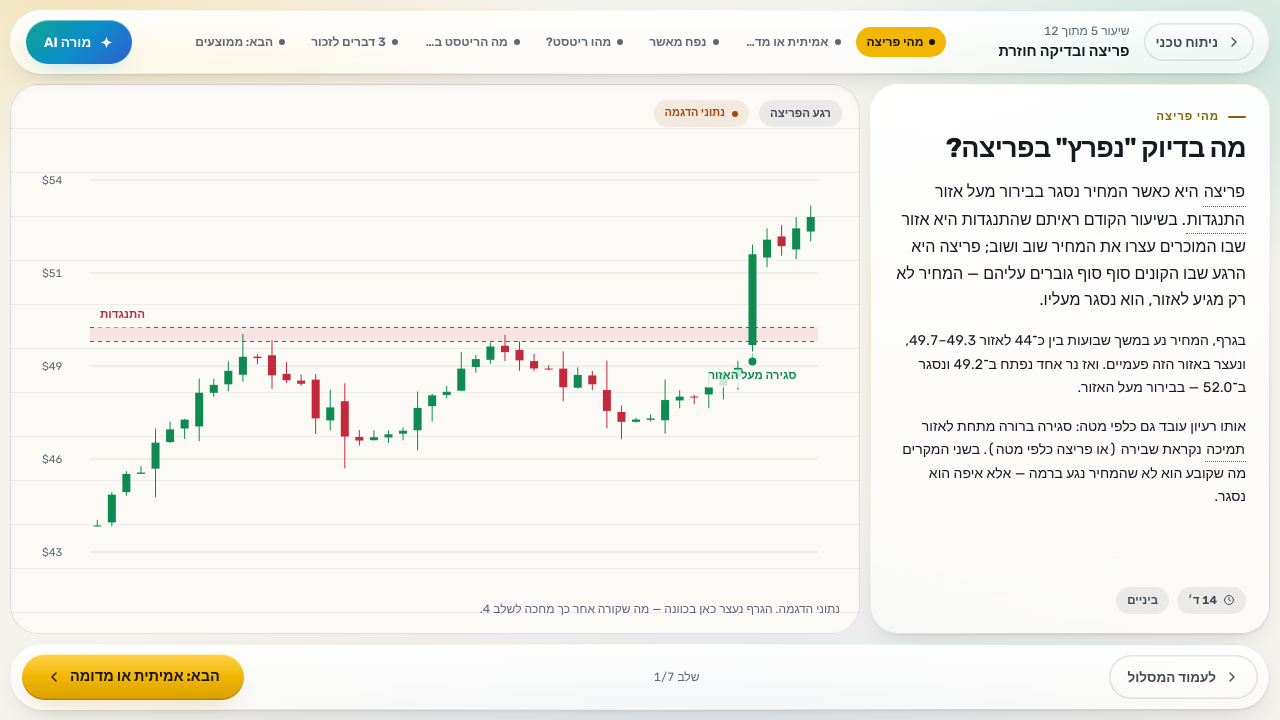
Test: predicting (T5) › is revealed, not marked: any guess moves on, with what actually happened
The image size is (1280, 720).
Click the button "מהו ריטסט?".
click(584, 42)  # box [535,27,634,57]
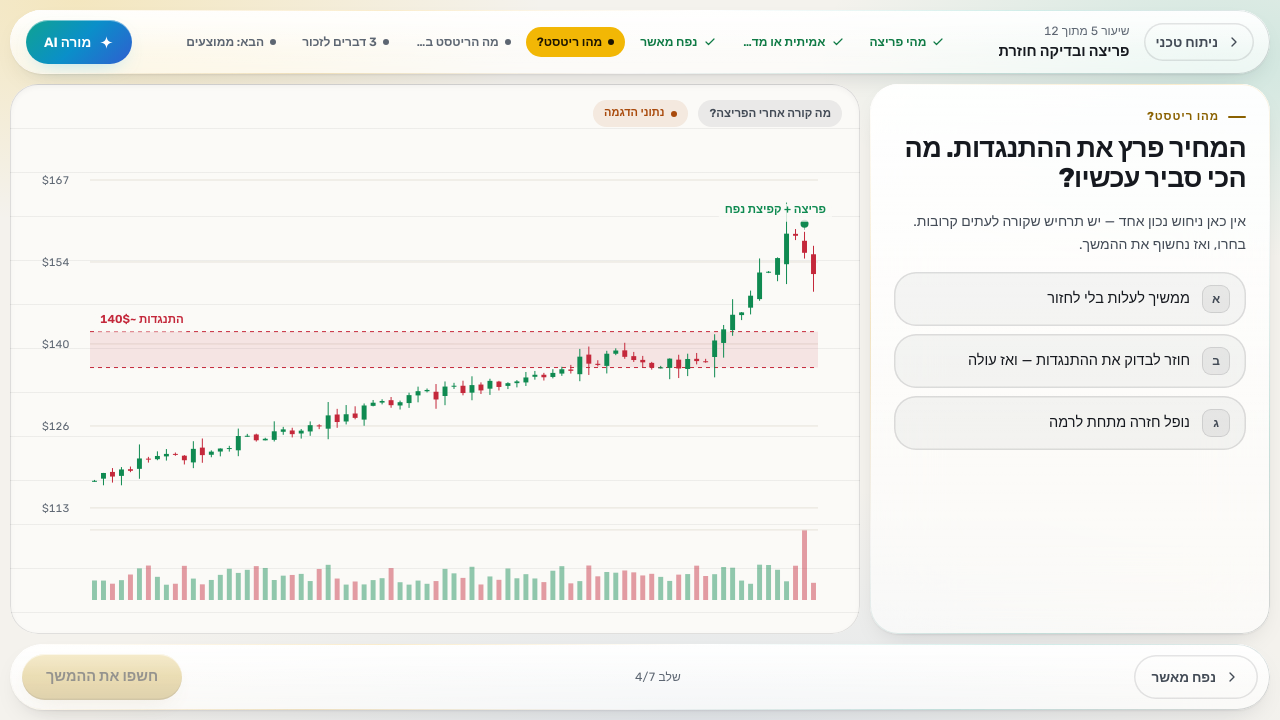
Click the radio button labelled "א ממשיך לעלות בלי לחזור".
click(1070, 299)  # box [894,272,1246,326]
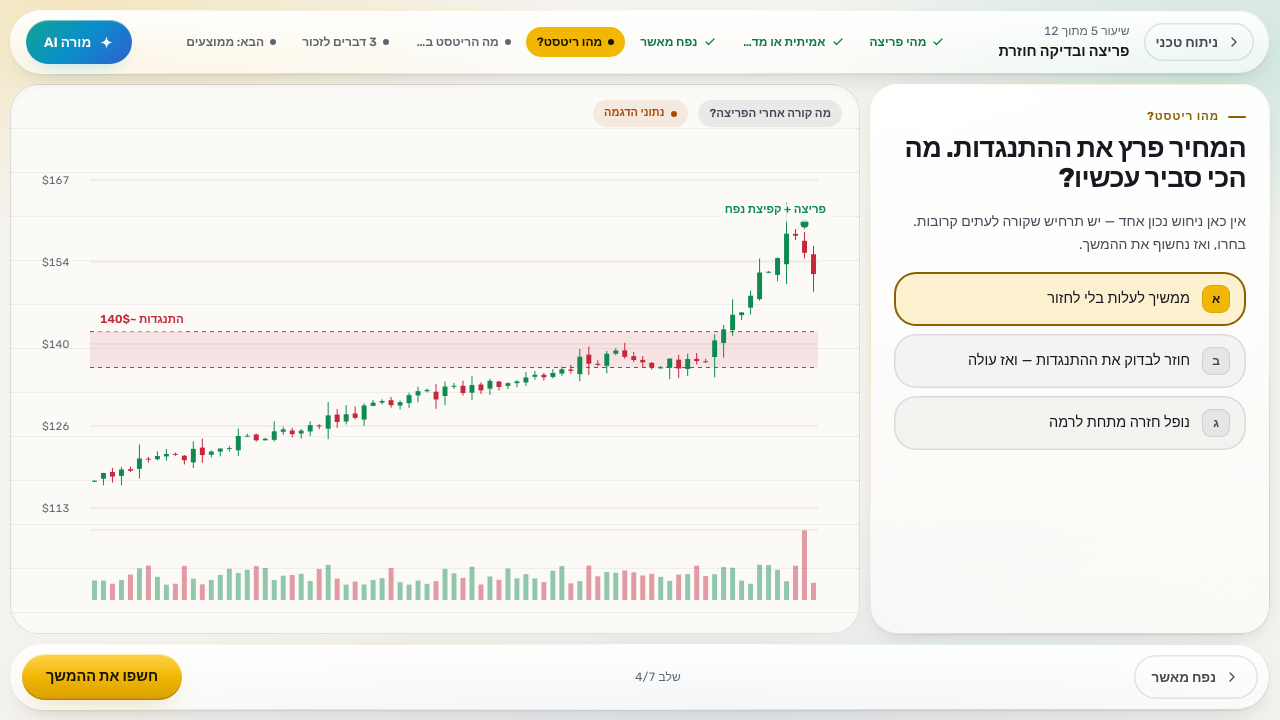
Click the button "חשפו את ההמשך".
click(102, 677)  # box [22,654,182,700]
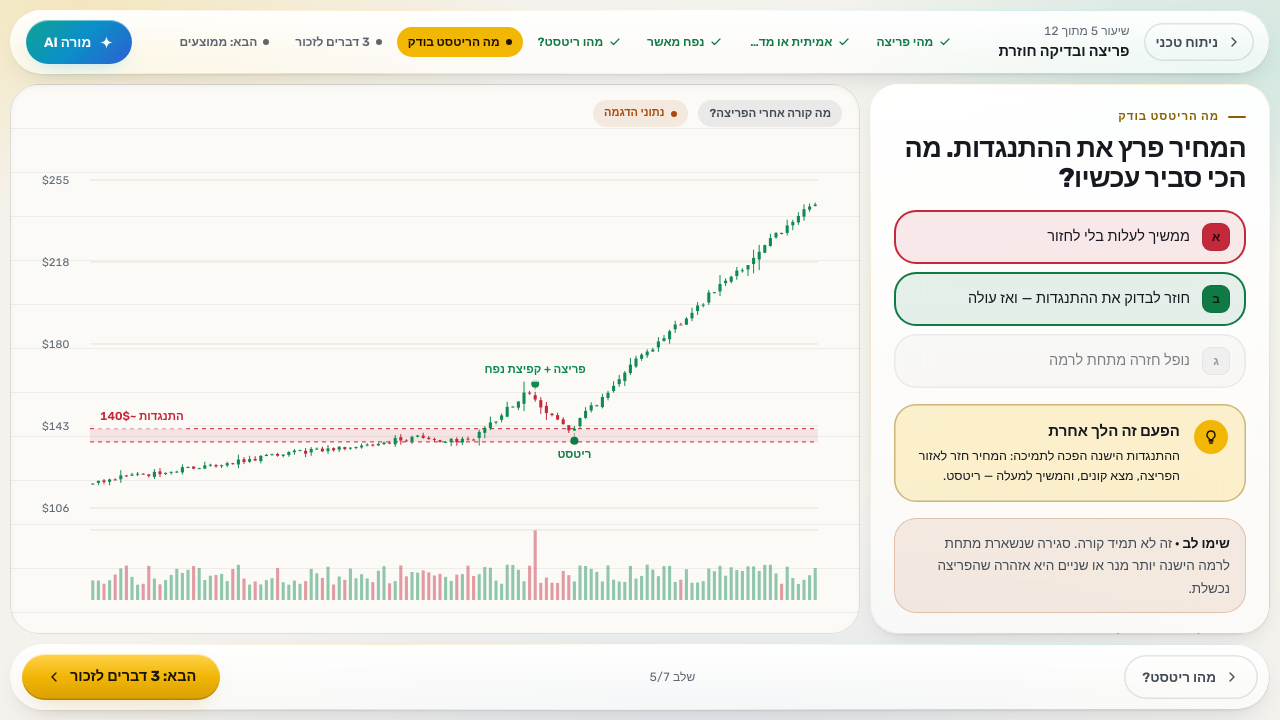
Expected: the button "הבא: 3 דברים לזכור" is enabled, [22,654,220,700]
Expected: the message shows "הפעם זה הלך אחרת", [1048,422,1180,440]
